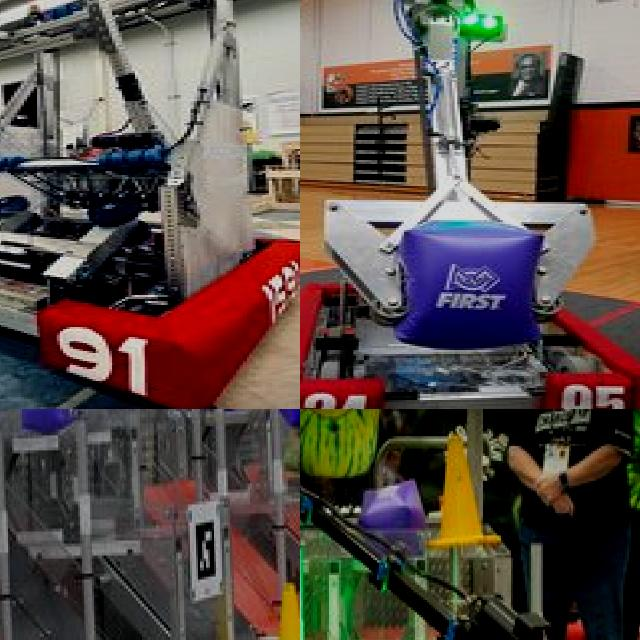FRC-Robots: (300, 0, 640, 409), (0, 0, 300, 409), (300, 437, 640, 640)
